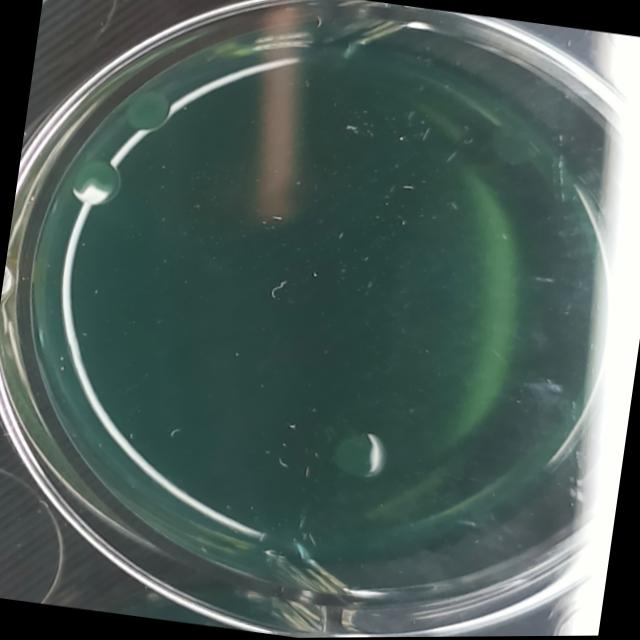vibrio: (320, 424, 398, 490), (61, 155, 128, 217), (119, 83, 177, 139)
